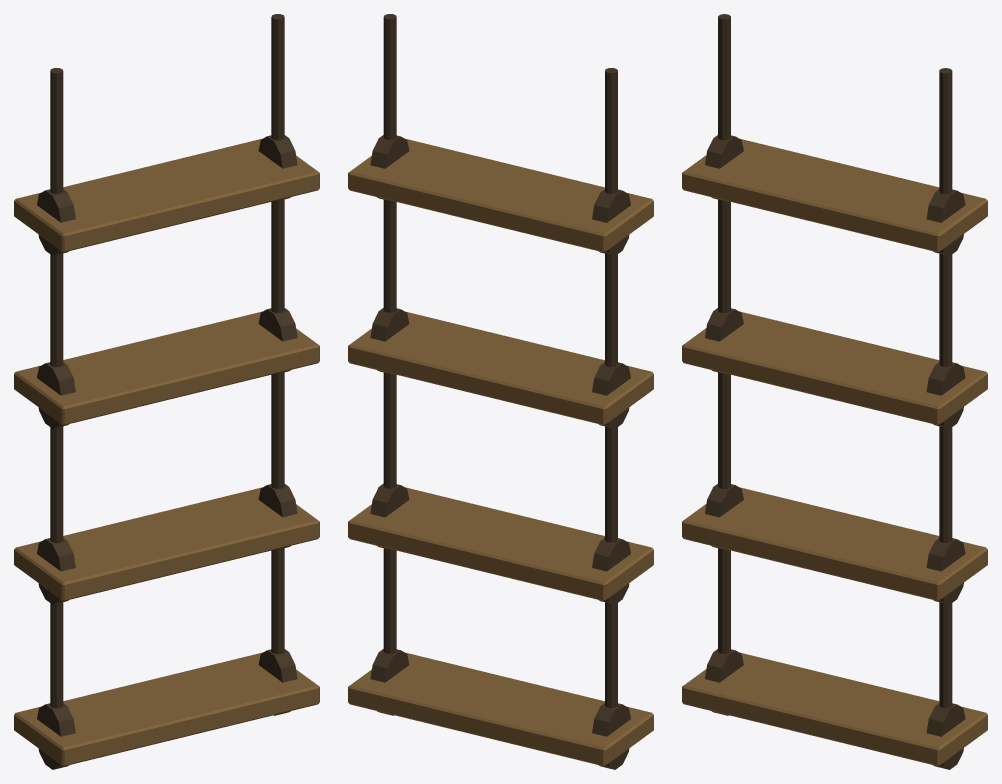
Rendered from Platform_Ladder_Medium.fbx.
3 views of the same model, side by side, from view 1: azimuth 30°, elevation 25°; view 2: azimuth 150°, elevation 25°; view 3: azimuth 330°, elevation 25° (orthographic).
Visible parts, largest first — view 1: Platform_Ladder_Medium; view 2: Platform_Ladder_Medium; view 3: Platform_Ladder_Medium.
Boxes of the visible parts, x1,y1,x2,y2 form: Platform_Ladder_Medium: (14, 14, 319, 769); Platform_Ladder_Medium: (348, 14, 653, 769); Platform_Ladder_Medium: (682, 14, 987, 769).
Size of the model in its own units: 60 by 154 by 20.
